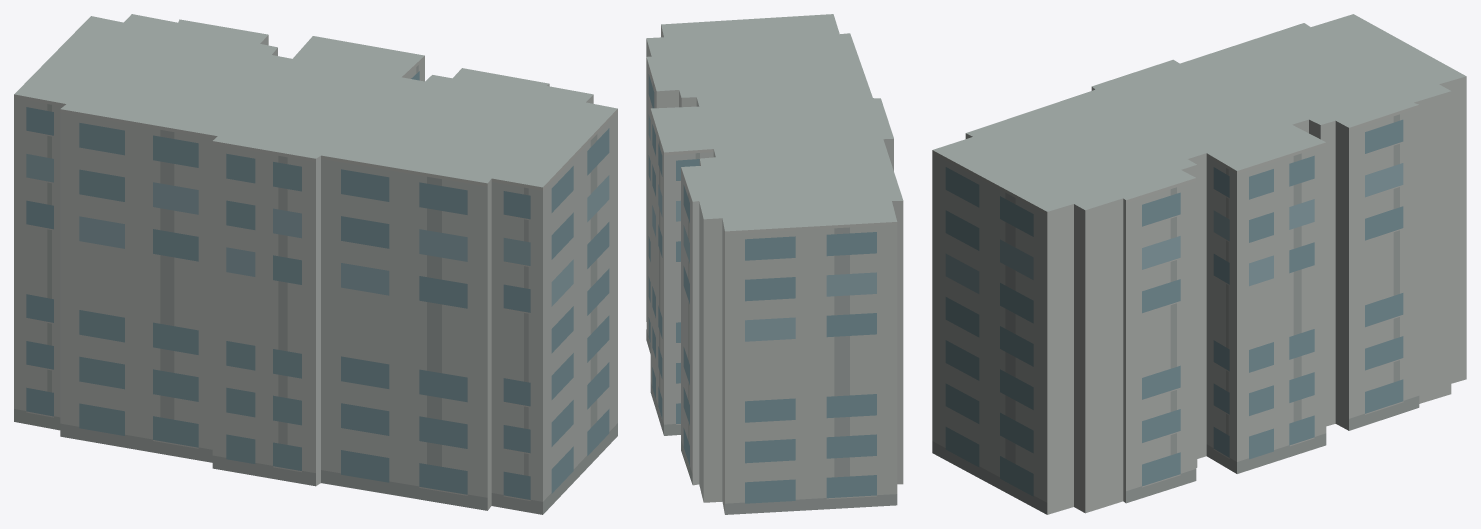
File: survey-upis-32677261.glb
The picture shows the model from 3 angles, left to right: view 1: azimuth 30°, elevation 25°; view 2: azimuth 150°, elevation 25°; view 3: azimuth 270°, elevation 25°; orthographic projection. The views are drawn at different scales.
Parts seen in each view (by area): view 1: survey-upis-32677261.tmp; view 2: survey-upis-32677261.tmp; view 3: survey-upis-32677261.tmp.
Part boxes in pixels (bbox=[...]): survey-upis-32677261.tmp: bbox=[14, 14, 617, 514]; survey-upis-32677261.tmp: bbox=[646, 14, 903, 514]; survey-upis-32677261.tmp: bbox=[932, 14, 1466, 514].
Size of the model in its own units: 32.5 by 23.2 by 37.08.
